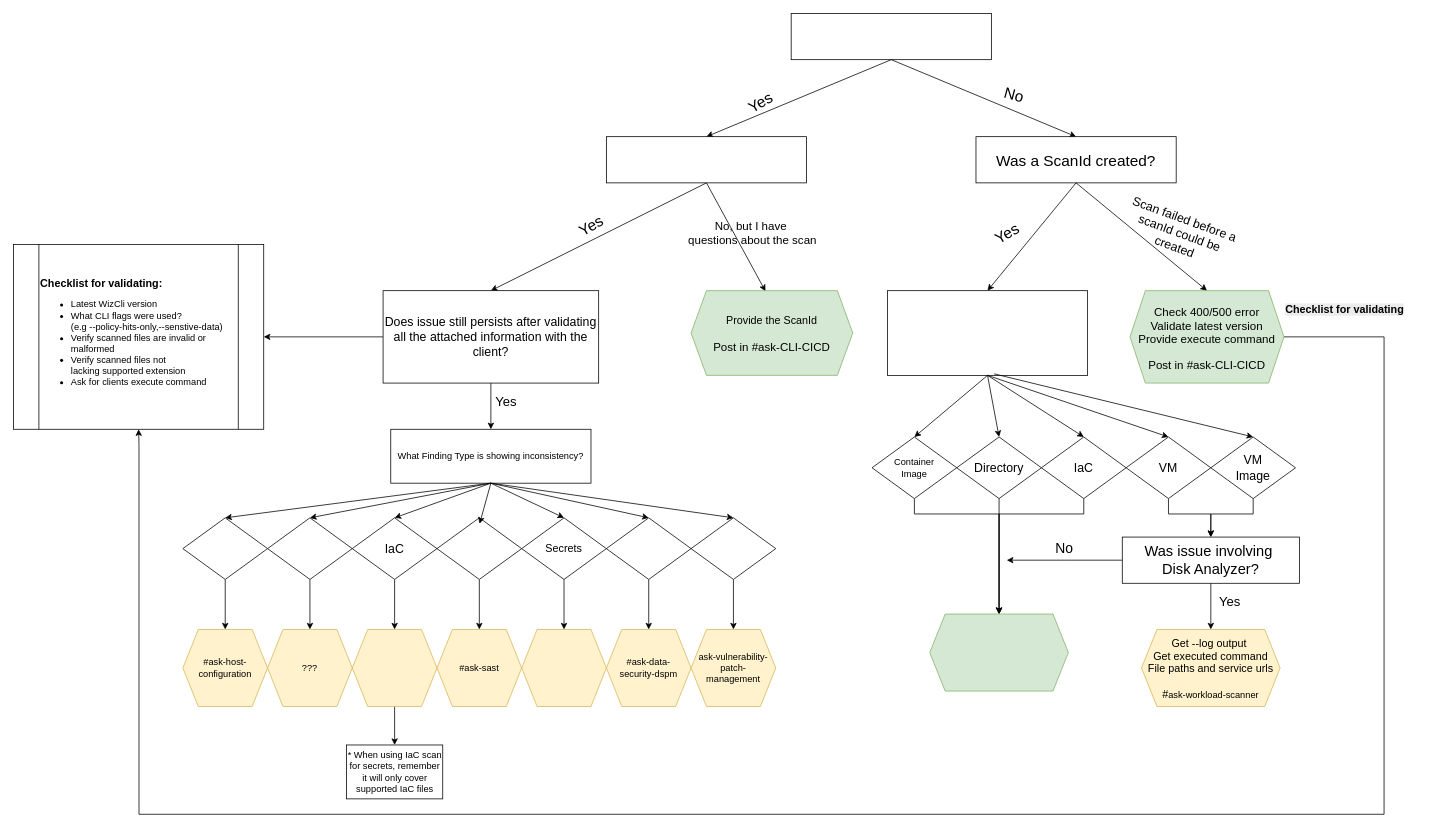
This 1444x834 diagram has some shape labels left out. The box of each missing label's shape, as (x1, y1, x2, y2) in pixels:
#ask-iac-security: (352, 629, 437, 706)
#ask-secret-detection: (521, 629, 606, 706)
Are there gaps in results?: (606, 136, 807, 183)
Get --log output Get executed command File paths and service urls #ask-CLI-CICD: (929, 613, 1068, 691)
Host Configuration: (182, 517, 268, 579)
Maleware: (267, 517, 352, 579)
SAST: (436, 517, 522, 579)
Sensitive Data: (606, 517, 691, 579)
Using the Troubleshooting Dashboard Where was the error?: (887, 290, 1088, 375)
Vulnerabilities: (690, 517, 776, 579)
Was Scan Completed?: (790, 13, 991, 60)
